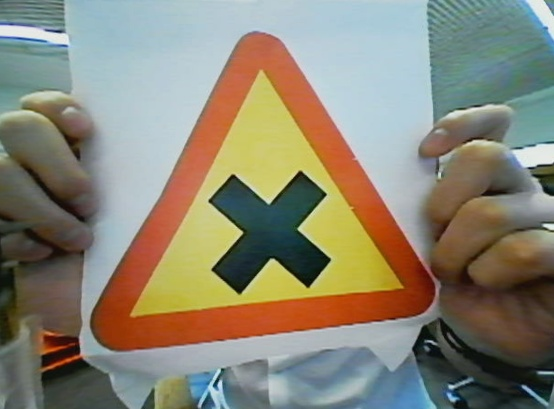junction: (74, 18, 466, 338)
